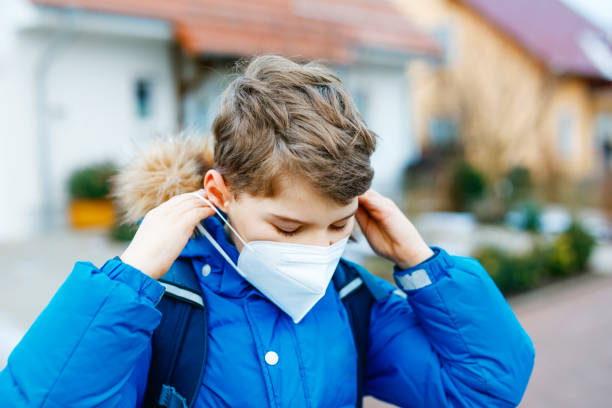with mask: (201, 81, 377, 325)
